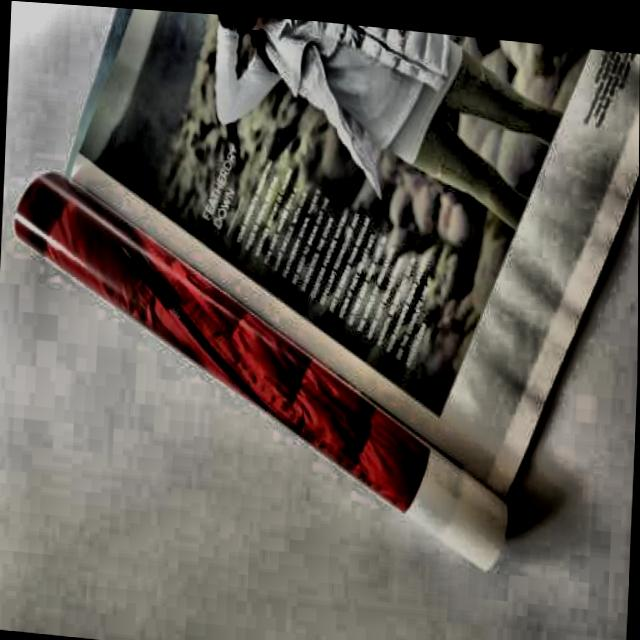Paper: (0, 0, 640, 586)
